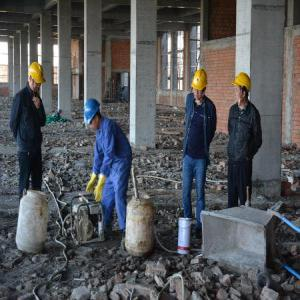blue: (85, 100, 102, 132)
yellow: (192, 67, 208, 102), (30, 61, 45, 94), (234, 73, 251, 102)
